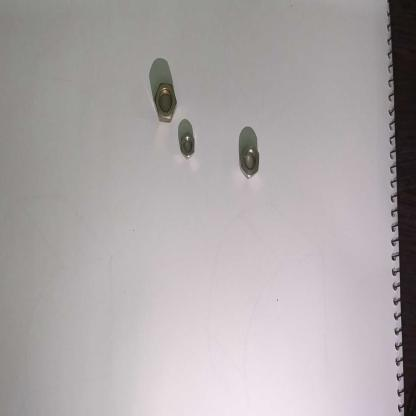NUTS: (154, 75, 179, 125), (239, 141, 260, 179), (180, 128, 198, 161)
